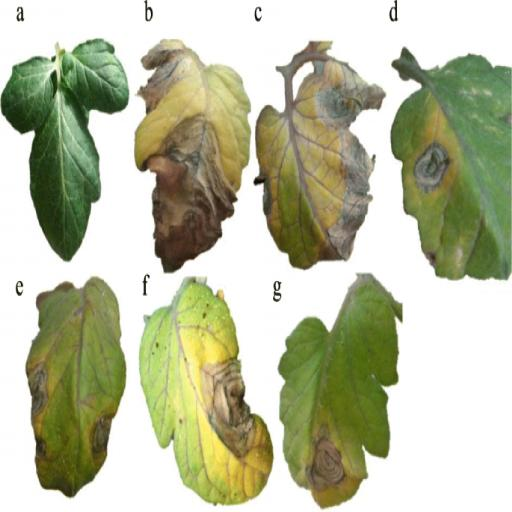Early Blight: (140, 276, 274, 508), (281, 272, 405, 506), (389, 48, 512, 278), (136, 38, 250, 273), (25, 273, 127, 495)
